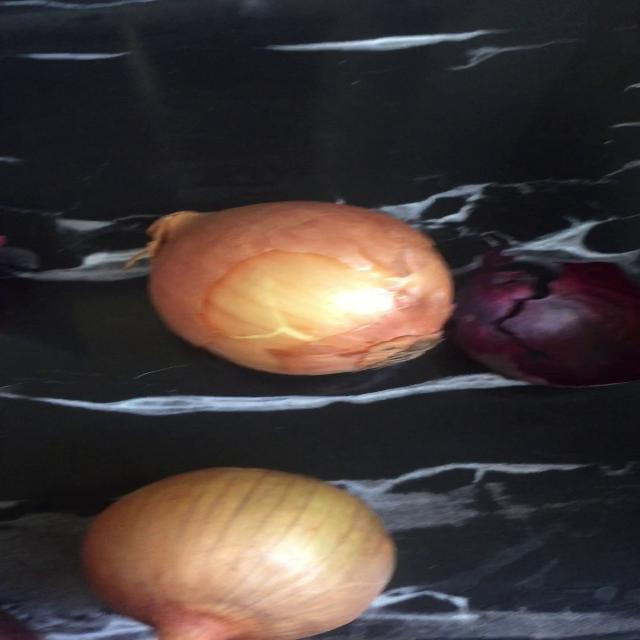Onion: (140, 202, 452, 375), (82, 468, 394, 640)
